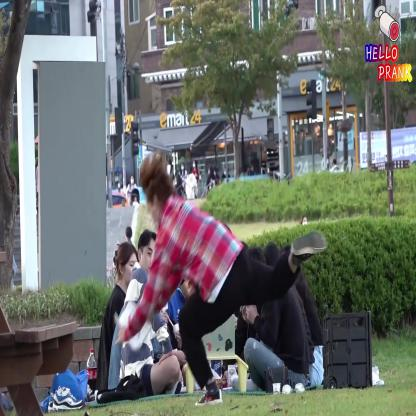Fall_Down: (112, 157, 328, 408)
